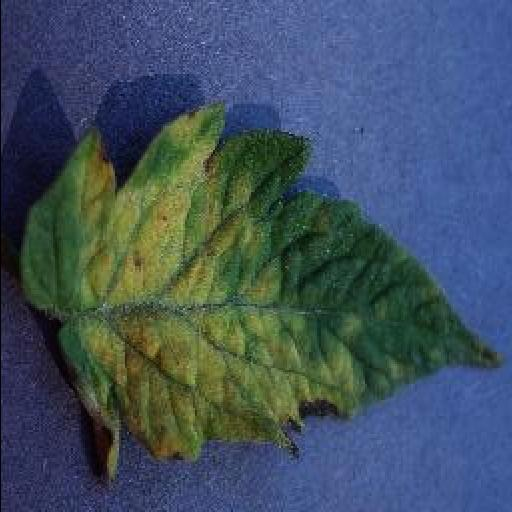disease_tomato: (16, 102, 502, 483)
